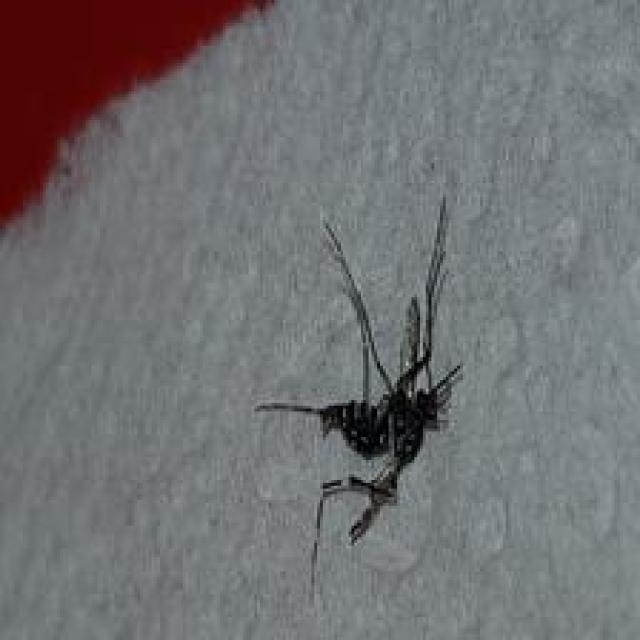Aedes albopictus: (253, 192, 464, 594)
